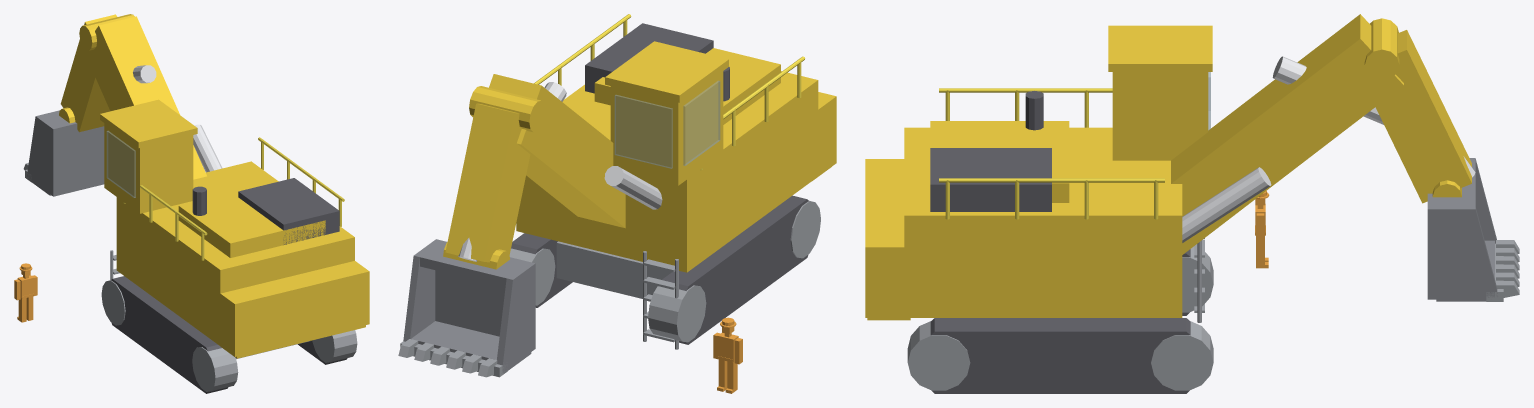
The model's file is shovel.glb.
The picture shows the model from 3 angles, left to right: view 1: azimuth 30°, elevation 25°; view 2: azimuth 150°, elevation 25°; view 3: azimuth 270°, elevation 25°; orthographic projection. The views are drawn at different scales.
Visible parts, largest first — view 1: superstructure, counterweight, cab, boom, bucket, crawler_tracks, engine_cooling, sprockets_idlers, stick, cab_glass, walkways_rails, hydraulic_cylinders (+1 smaller); view 2: superstructure, cab, bucket, boom, stick, crawler_tracks, cab_glass, sprockets_idlers, car_body, engine_cooling, bucket_teeth, hydraulic_cylinders (+4 smaller); view 3: superstructure, boom, crawler_tracks, cab, stick, engine_cooling, sprockets_idlers, bucket, counterweight, hydraulic_cylinders, walkways_rails, bucket_teeth (+2 smaller).
Boxes of the visible parts, x1,y1,x2,y2 form: superstructure: (116, 161, 354, 344); counterweight: (214, 261, 369, 358); cab: (100, 99, 197, 213); boom: (79, 14, 206, 179); bucket: (27, 110, 104, 196); crawler_tracks: (111, 276, 347, 393); engine_cooling: (192, 178, 339, 244); sprockets_idlers: (101, 280, 357, 391); stick: (59, 14, 117, 132); cab_glass: (106, 131, 135, 197); walkways_rails: (123, 137, 344, 260); hydraulic_cylinders: (133, 65, 222, 172); superstructure: (516, 48, 818, 272); cab: (605, 41, 728, 185); bucket: (403, 239, 535, 373); boom: (469, 74, 625, 228); stick: (443, 103, 530, 269); crawler_tracks: (511, 195, 808, 344); cab_glass: (614, 80, 720, 168); sprockets_idlers: (509, 200, 820, 342); car_body: (556, 241, 671, 298); engine_cooling: (585, 23, 729, 101); bucket_teeth: (398, 339, 507, 377); hydraulic_cylinders: (458, 82, 662, 261); superstructure: (904, 121, 1182, 317); boom: (1171, 14, 1403, 254); crawler_tracks: (930, 249, 1190, 393); cab: (1108, 25, 1212, 160); stick: (1375, 30, 1471, 203); engine_cooling: (930, 91, 1051, 211); sprockets_idlers: (907, 246, 1213, 390); bucket: (1427, 158, 1497, 301); counterweight: (865, 159, 921, 320); hydraulic_cylinders: (1182, 56, 1475, 242); walkways_rails: (939, 88, 1164, 219); bucket_teeth: (1486, 240, 1519, 301).
Bounding box in the file's own units: 7.5 × 8.19 × 15.07.
